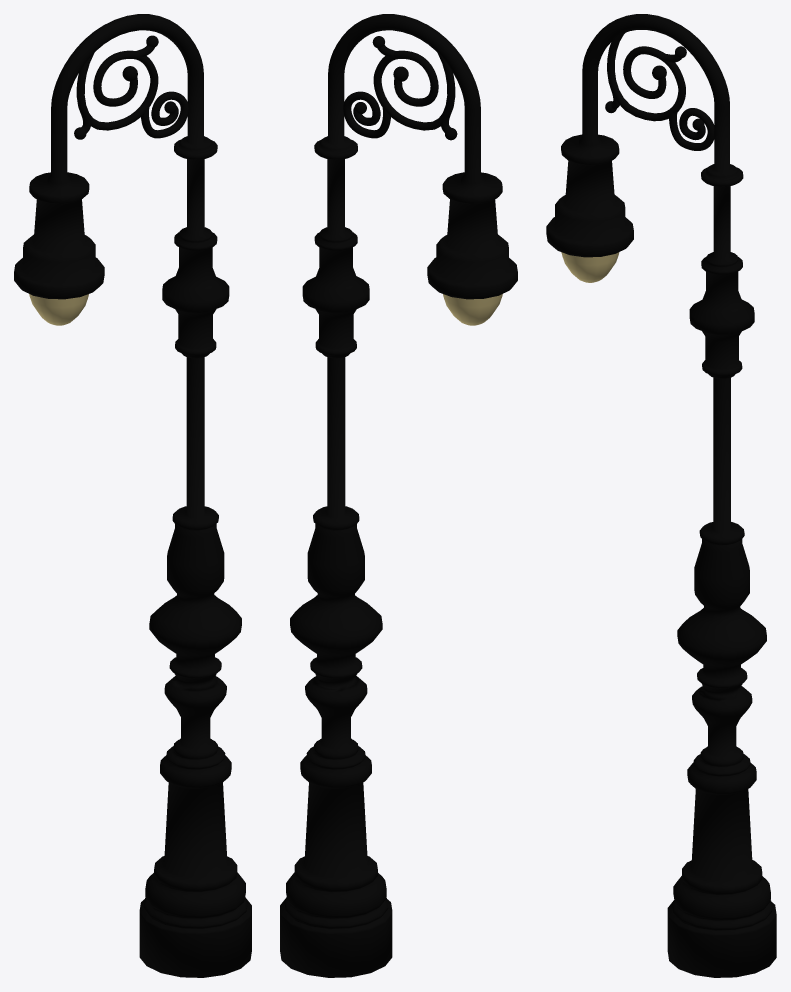
Rendered from lamp.obj.
The picture shows the model from 3 angles, left to right: view 1: azimuth 30°, elevation 25°; view 2: azimuth 150°, elevation 25°; view 3: azimuth 330°, elevation 25°; orthographic projection. The views are drawn at different scales.
Visible parts, largest first — view 1: body_Sphere, bulb_casing_Sphere.001; view 2: body_Sphere, bulb_casing_Sphere.001; view 3: body_Sphere, bulb_casing_Sphere.001.
Part boxes in pixels (bbox=[...]): body_Sphere: bbox=[14, 14, 251, 977]; bulb_casing_Sphere.001: bbox=[29, 294, 88, 325]; body_Sphere: bbox=[280, 14, 517, 977]; bulb_casing_Sphere.001: bbox=[443, 294, 502, 325]; body_Sphere: bbox=[546, 14, 776, 977]; bulb_casing_Sphere.001: bbox=[561, 252, 619, 282].
Bounding box in the file's own units: 1.11 × 4.49 × 0.4852.
